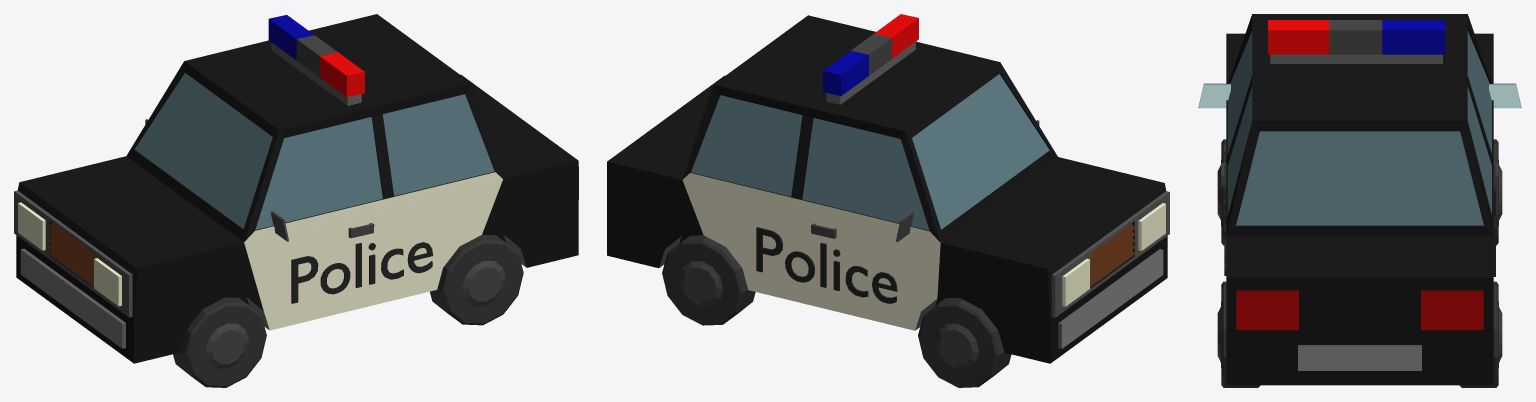
The model's file is policeCar.glb.
3 views of the same model, side by side, from view 1: azimuth 30°, elevation 25°; view 2: azimuth 150°, elevation 25°; view 3: azimuth 270°, elevation 25° (orthographic). The views are drawn at different scales.
Parts seen in each view (by area): view 1: Police; view 2: Police; view 3: Police.
Part boxes in pixels (box(x1,y1,x2,y2)): Police: box(14, 14, 578, 387); Police: box(607, 14, 1169, 387); Police: box(1198, 14, 1521, 387).
Bounding box in the file's own units: 3.35 × 1.85 × 1.81.
1 material, 1 textured.
